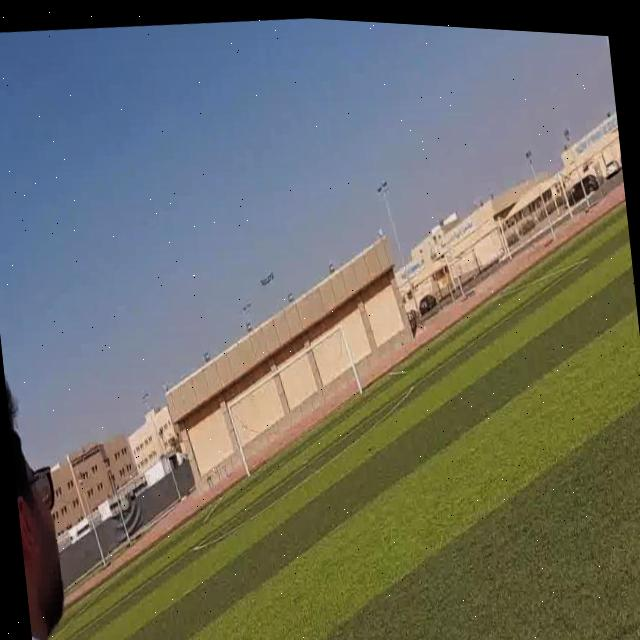drone: (252, 257, 280, 295)
